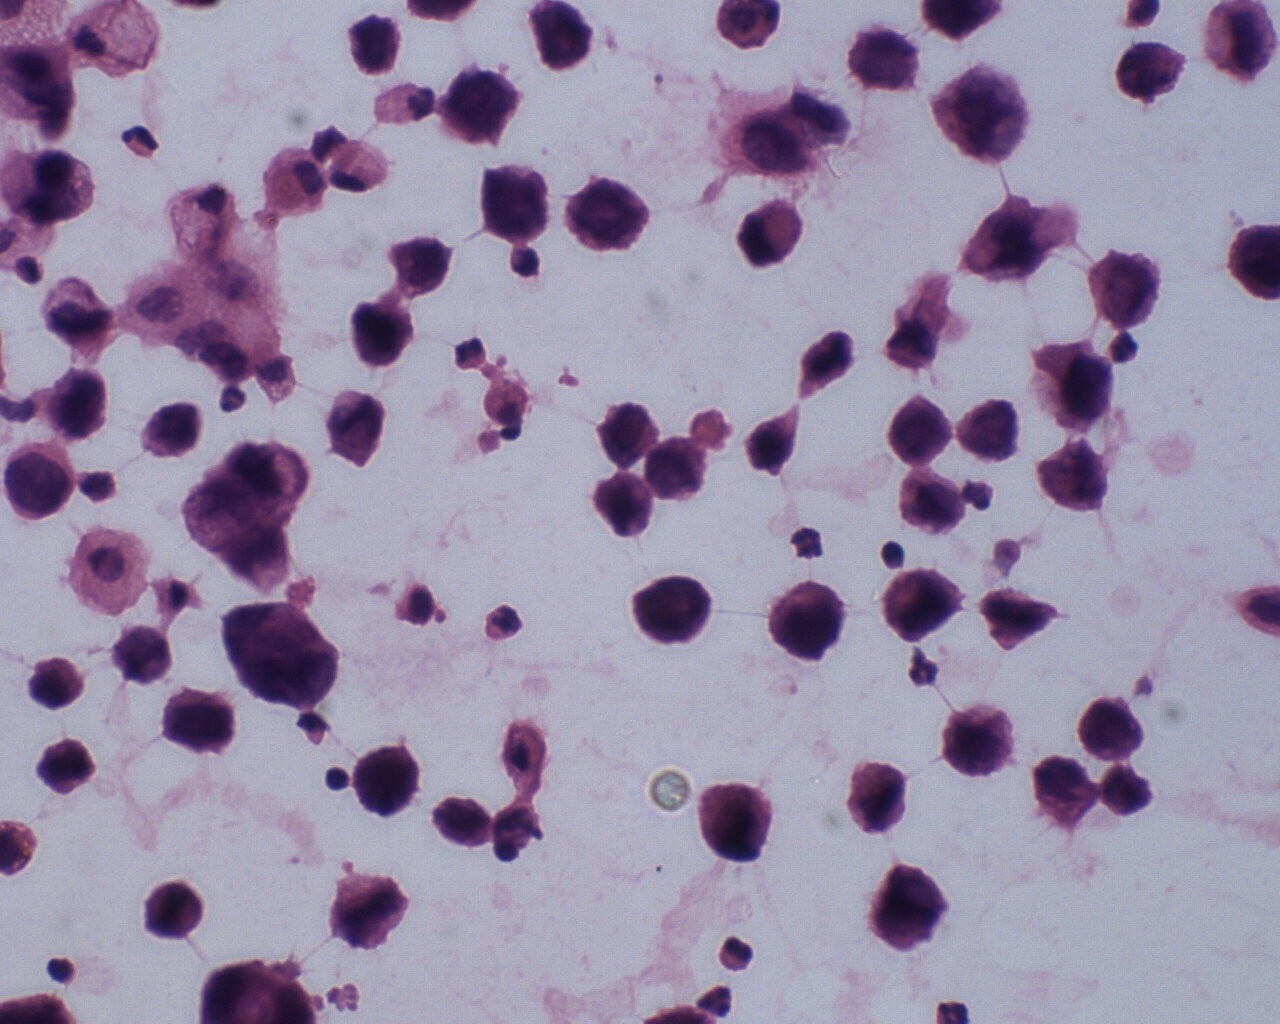ab: (225, 599, 345, 712), (1029, 338, 1118, 437), (566, 170, 654, 259), (693, 777, 779, 867), (1079, 247, 1169, 332), (439, 63, 523, 150), (870, 859, 953, 949), (766, 576, 850, 664), (1197, 1, 1280, 86), (471, 160, 553, 245), (5, 442, 84, 530), (630, 573, 715, 649), (885, 568, 965, 645), (949, 394, 1027, 471), (939, 699, 1015, 777), (1109, 34, 1187, 110), (1030, 749, 1098, 836), (320, 387, 389, 469), (34, 370, 113, 440), (885, 397, 960, 469), (587, 394, 659, 469), (351, 741, 420, 819), (889, 469, 967, 538), (1075, 694, 1150, 764), (590, 468, 656, 545), (161, 686, 233, 757), (645, 430, 711, 506), (386, 231, 457, 298), (134, 397, 200, 464), (34, 738, 101, 802), (143, 877, 205, 946), (111, 626, 178, 688), (24, 651, 82, 711)
histo: (257, 141, 334, 211), (324, 138, 393, 199)
meso: (68, 523, 154, 614)
neutro: (115, 121, 161, 162), (785, 522, 827, 563), (1108, 327, 1145, 369), (695, 981, 739, 1017)
